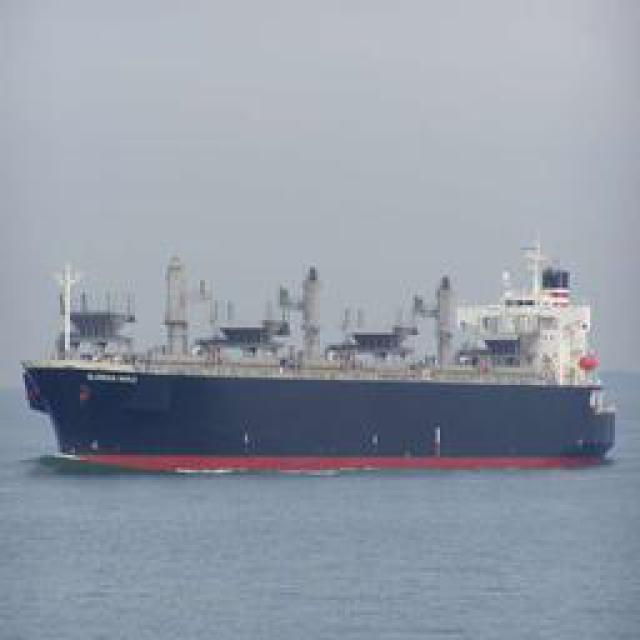Ship: (22, 223, 622, 468)
